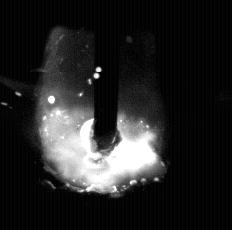arame: (95, 0, 119, 155)
poca: (38, 0, 165, 230)
